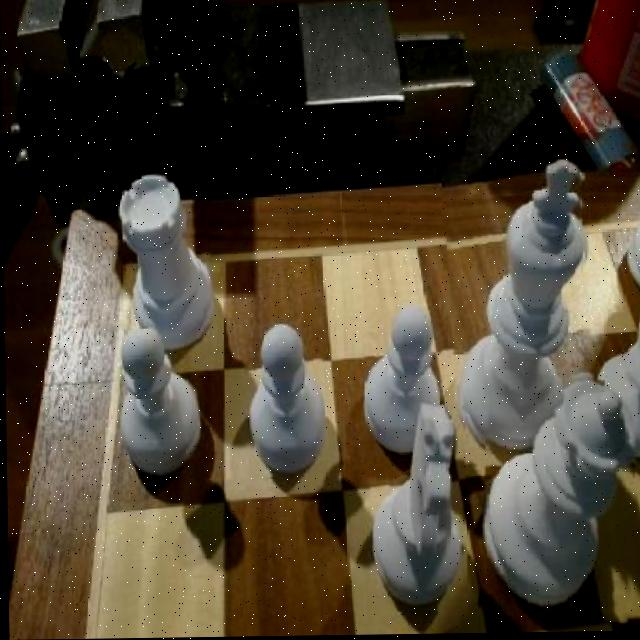white-bishop: (444, 164, 593, 468)
white-king: (367, 405, 466, 614)
white-knight: (245, 322, 326, 476), (113, 332, 196, 480), (363, 312, 441, 458)
white-pawn: (478, 374, 638, 624)
white-queen: (116, 171, 213, 360)
